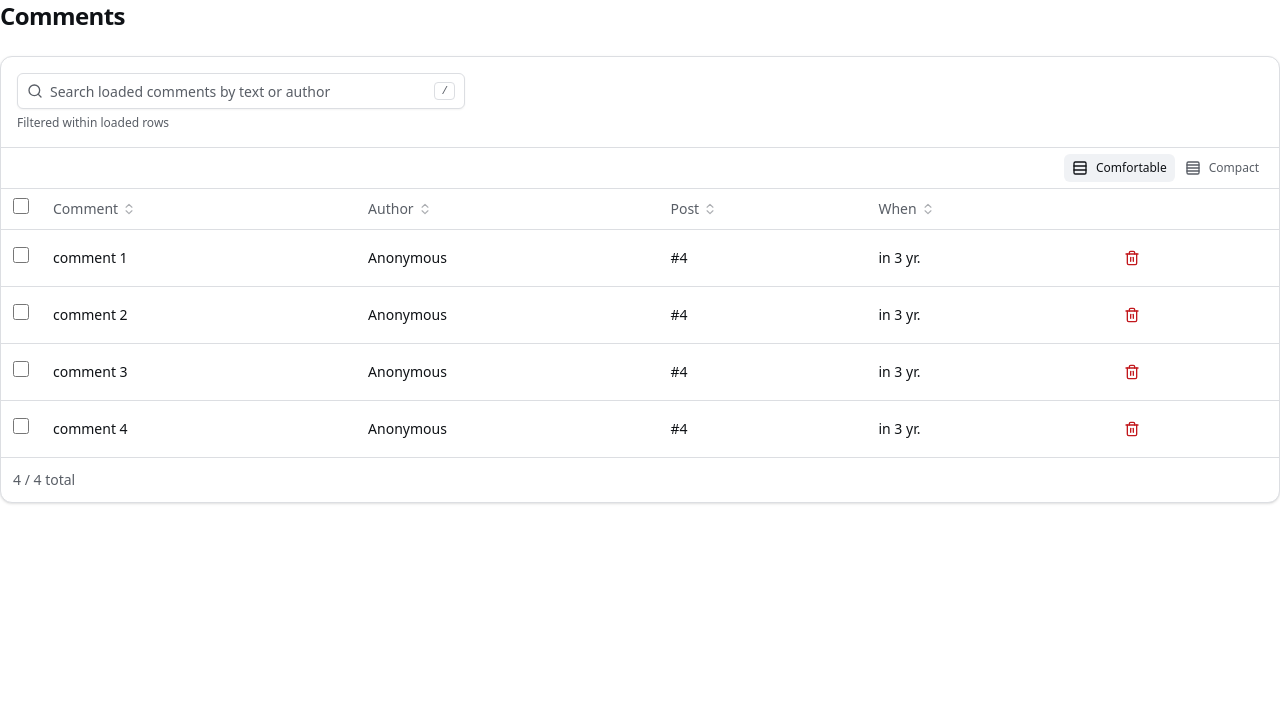
Test: CommentsPage › bulk-deletes 3 comments with one confirm and one summary toast
Click the checkbox named "Select row #1".
click(21, 255)  # box [13,247,29,263]
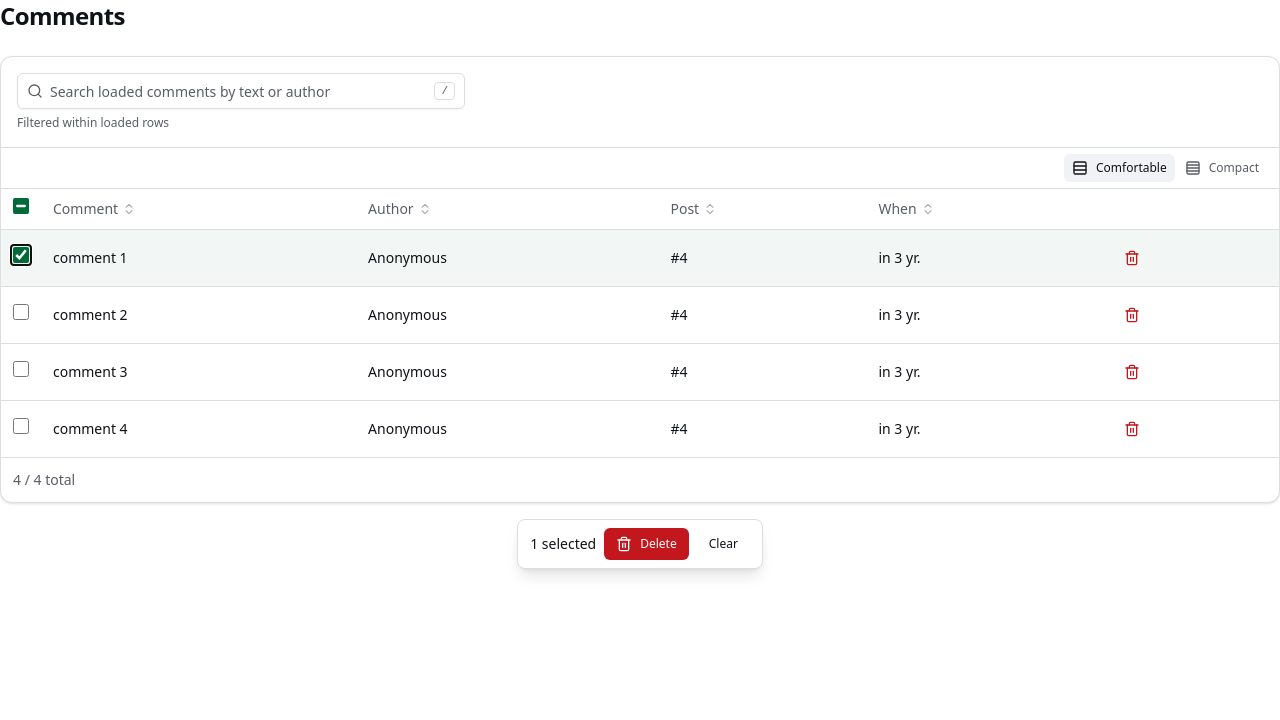
Click the checkbox named "Select row #2".
click(21, 312)  # box [13,304,29,320]
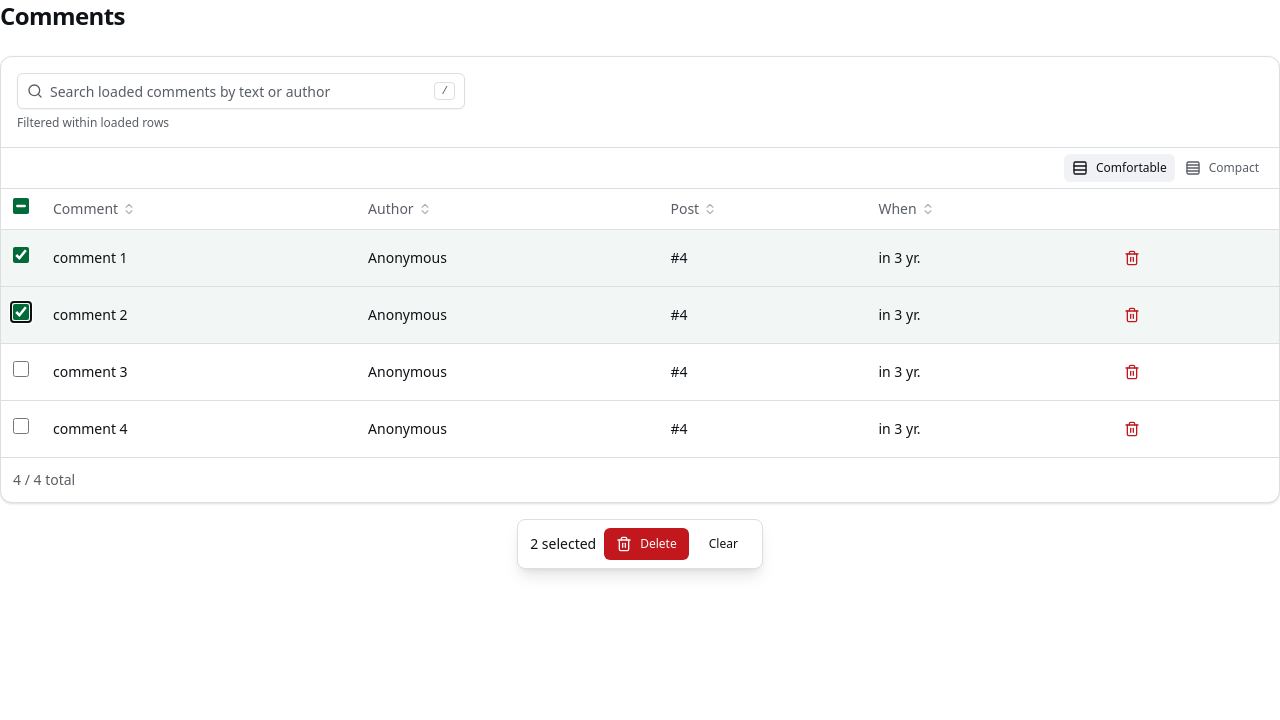
Click the checkbox named "Select row #3".
click(21, 369)  # box [13,361,29,377]
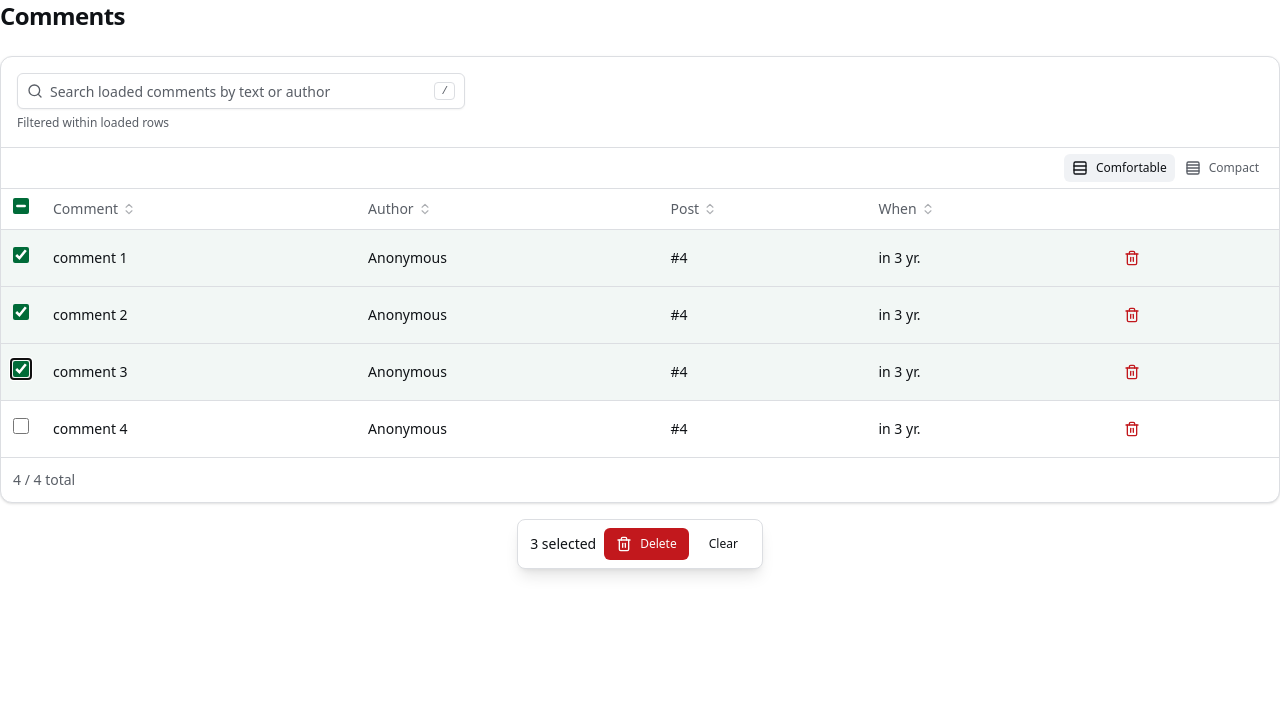
Check: the element named "Bulk actions" shows "3 selected", box [530,534,596,552]
Click the button "Delete".
click(646, 544)  # box [604,528,689,560]
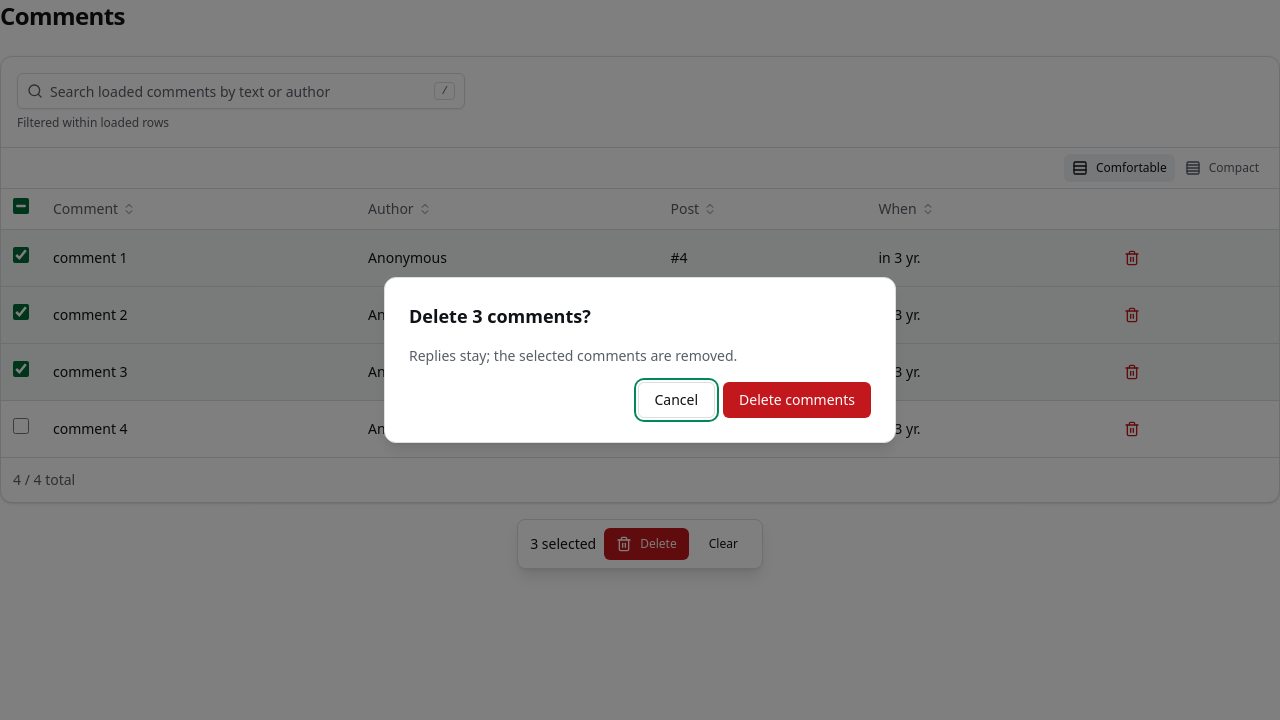
Check: the dialog shows "Delete 3 comments?", box [409,304,591,328]
Click the button "Delete comments".
click(797, 400)  # box [723,382,871,418]
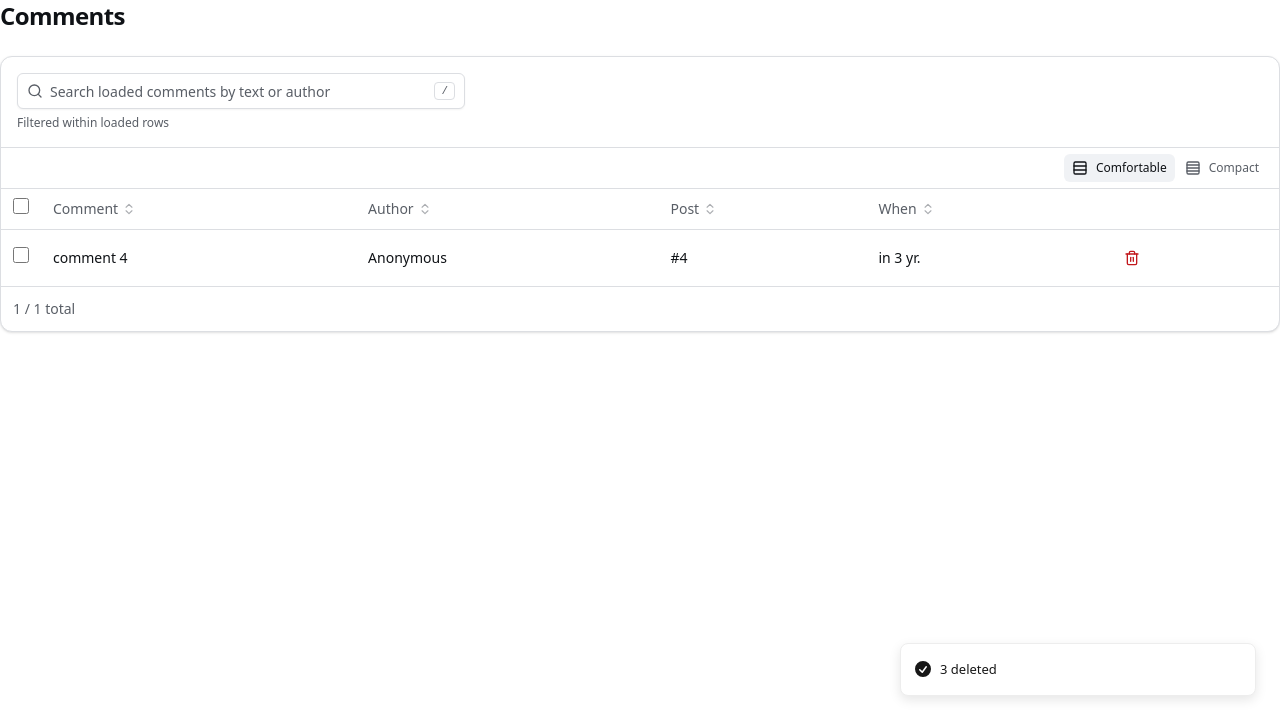
Check: the text "3 deleted" is shown, box [940,660,997,679]
Check: the dialog is gone
